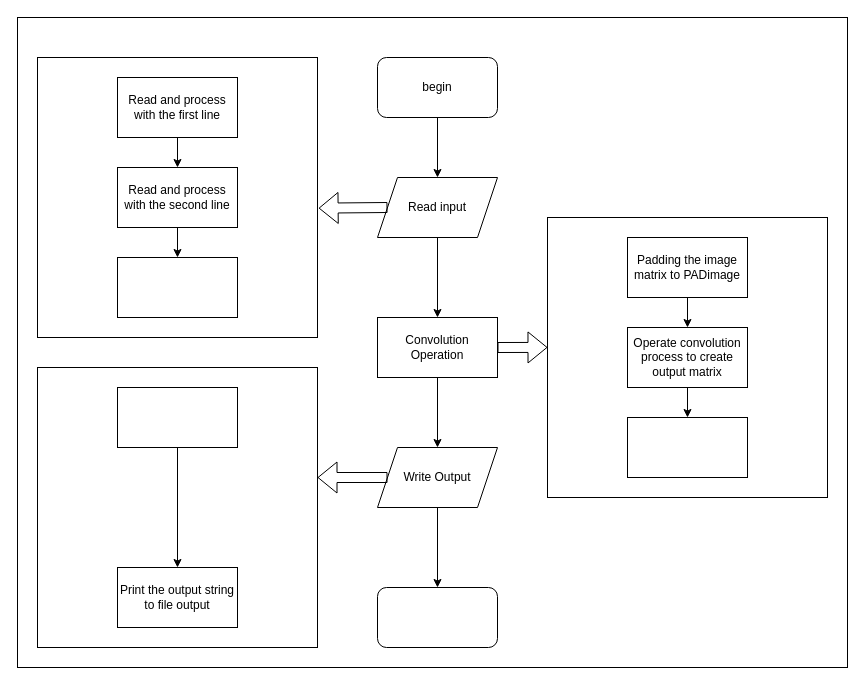
This 865x685 diagram has some shape labels left out. Here are the shapes that lost their labels. From the top down, the centre of each, then its label:
[177,287]: Read and process with the third line
[177,417]: Change the matrix output to the output string
[687,447]: Rounding numbers in output matrix
[437,617]: end
